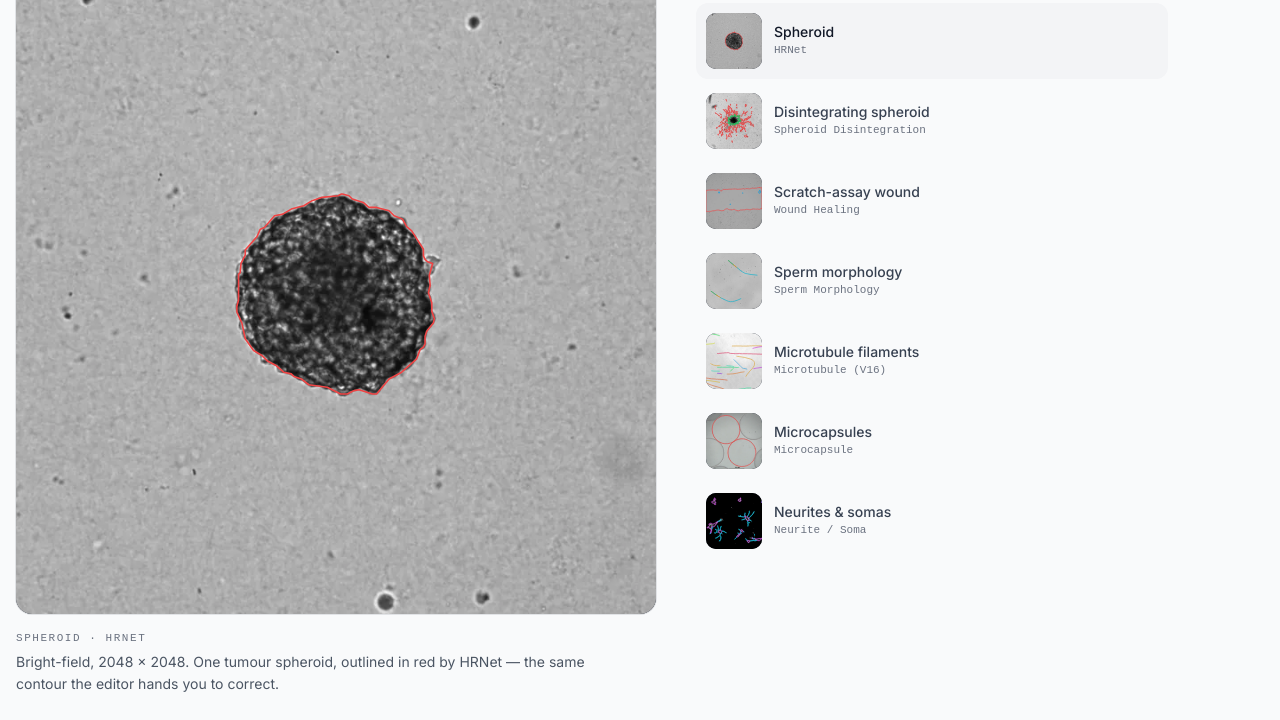
Test case: Hero › swaps the frame, the caption and the outlines when a specimen is picked
(page scrolled)
What coordinates should you click on to do the following:
click the tab "Microtubule filaments Microtubule (V16)"
I would click on:
 (734, 360)
Its box is [696,322,1168,398].
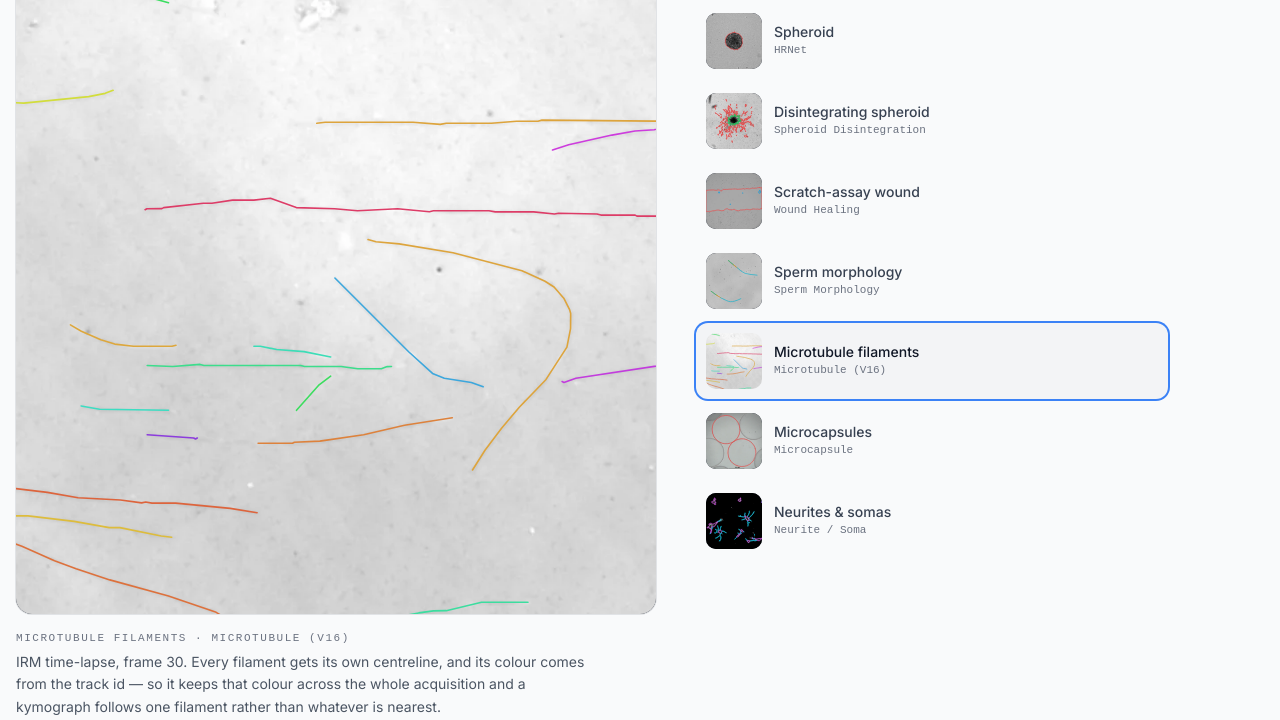
Result: the tab "Microtubule filaments Microtubule (V16)" is selected at [696,322,1168,398]
